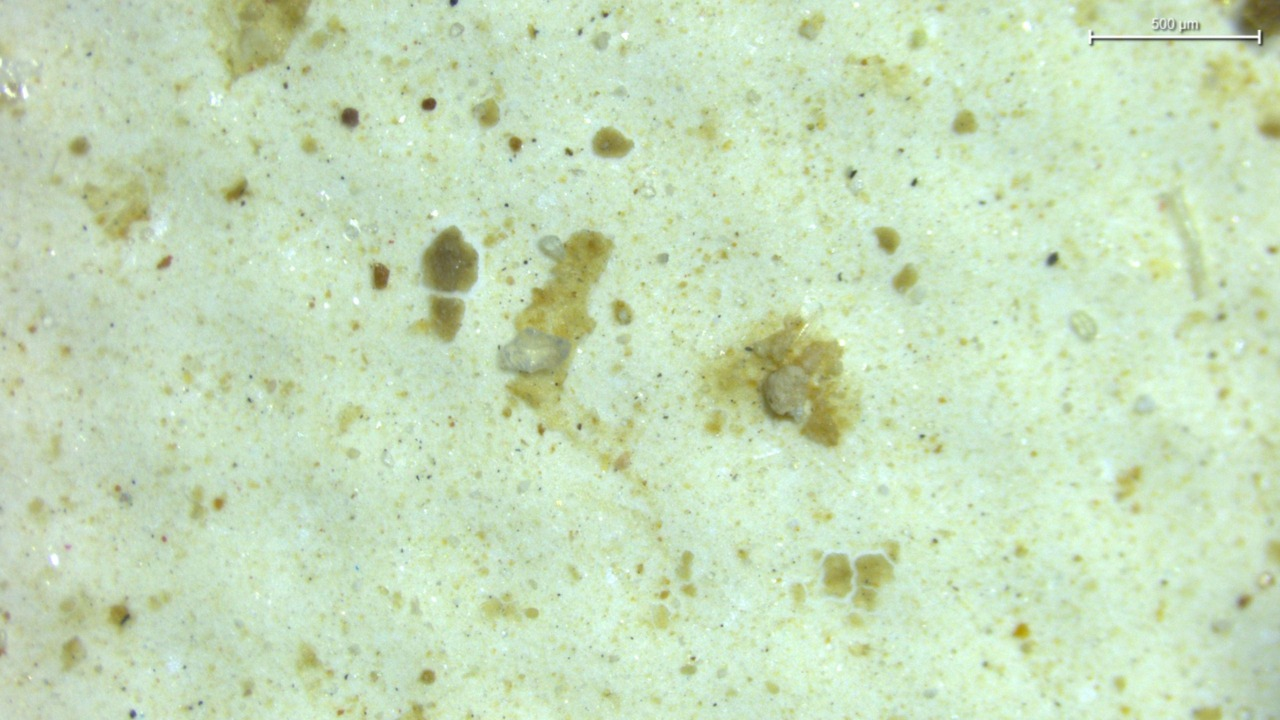microplastic_fragment: (498, 327, 572, 373), (763, 365, 810, 421), (537, 235, 564, 261)
